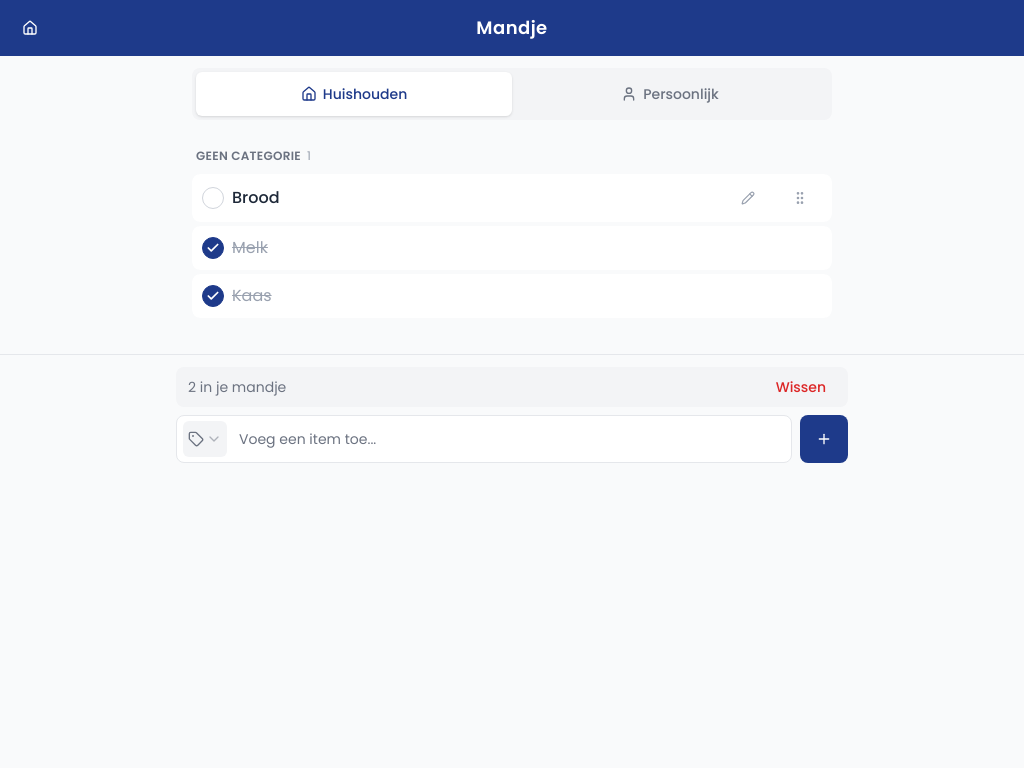
HouseholdClientPage › checking items off › clears only the checked items
What coordinates should you click on to do the following:
click the button "Wissen"
I would click on:
 (801, 387)
Its box is left=766, top=371, right=836, bottom=403.
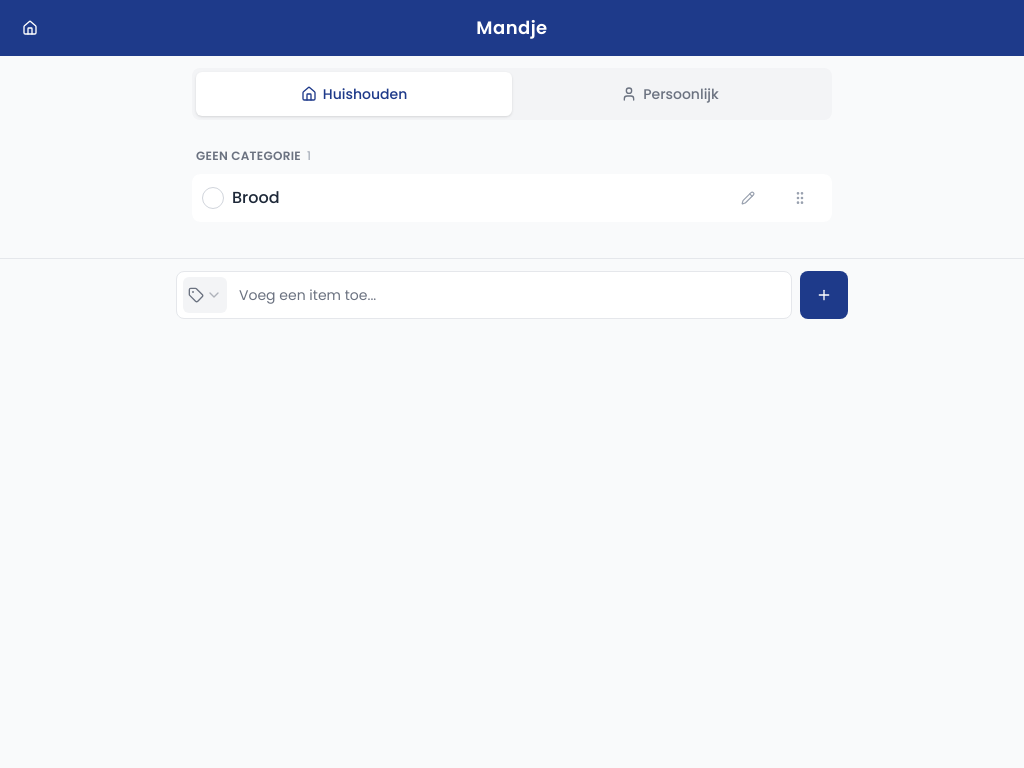
Expected: the text "brood" is shown, left=232, top=186, right=280, bottom=209
Result: the button "melk" is gone
